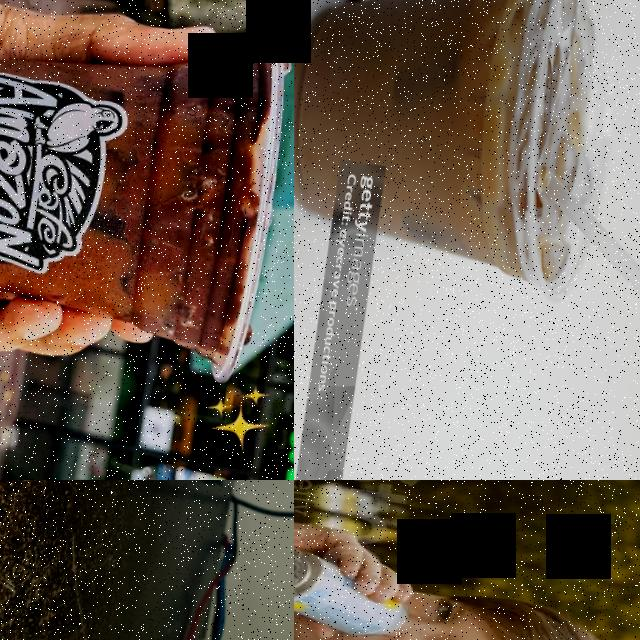can: (294, 542, 414, 640)
cup: (0, 0, 293, 384), (294, 0, 630, 292)
